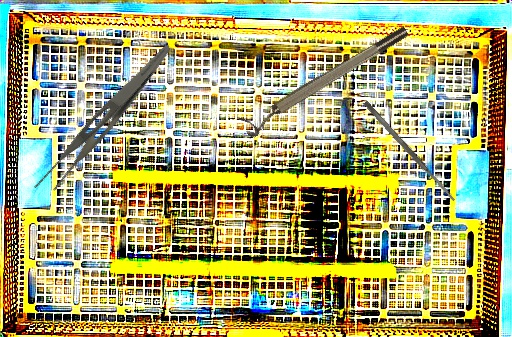Dressing Forceps: (30, 29, 174, 206)
Fixation Ring: (238, 23, 415, 140)
Spatula Surgical: (362, 99, 457, 204)
